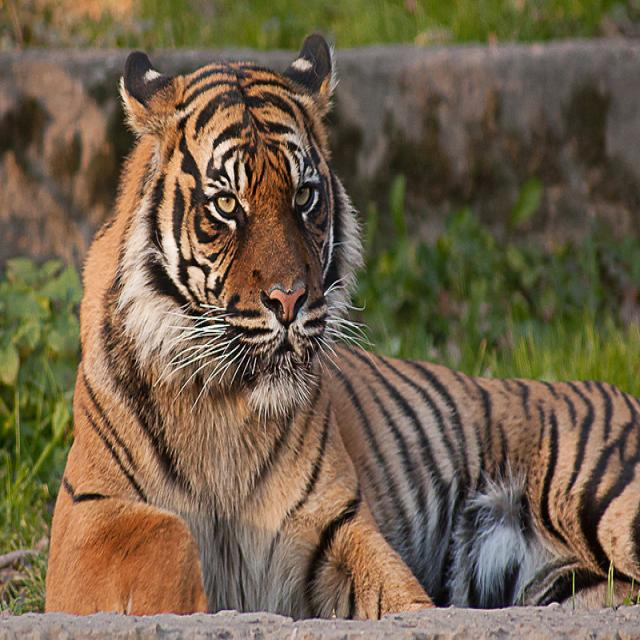Tiger: (45, 31, 639, 620)
